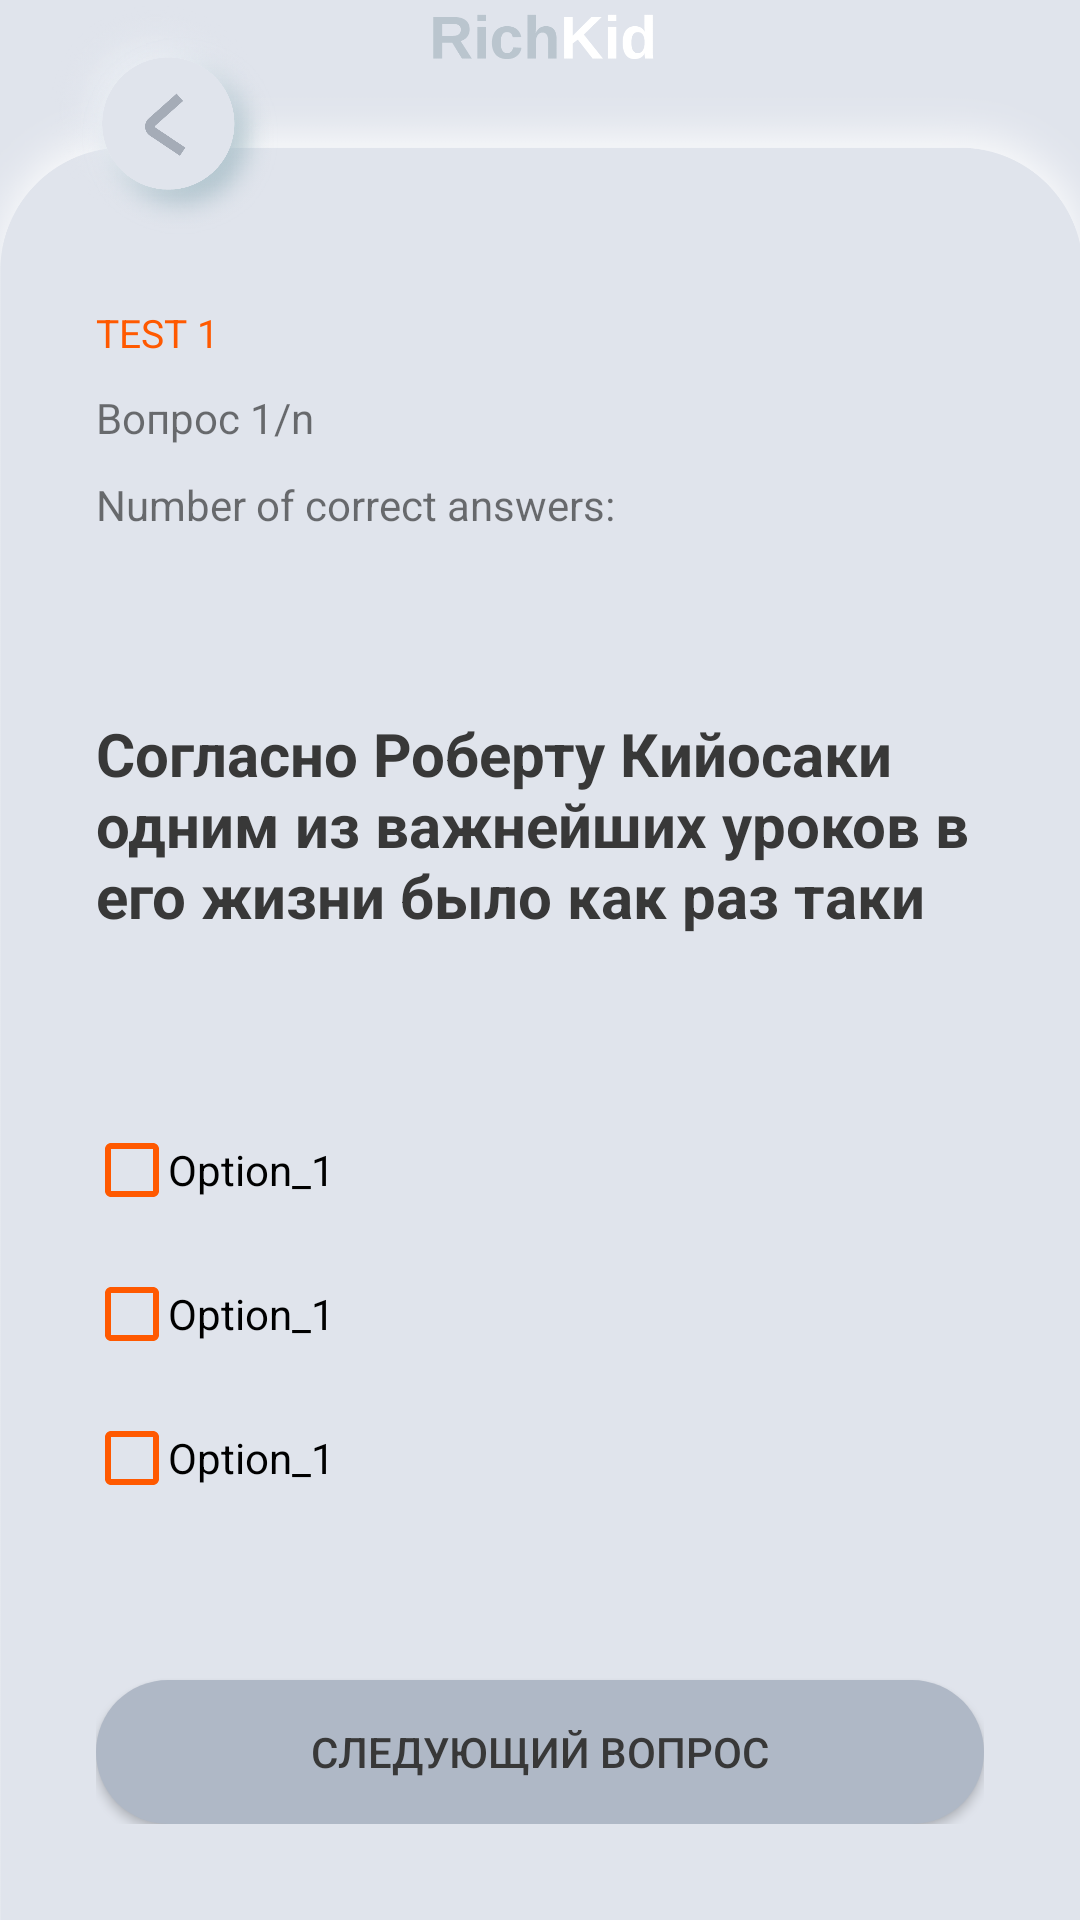

Named icons in this screenshot (1080px x 1920px) and their centers, [x,y]:
custom back: [196,148]
